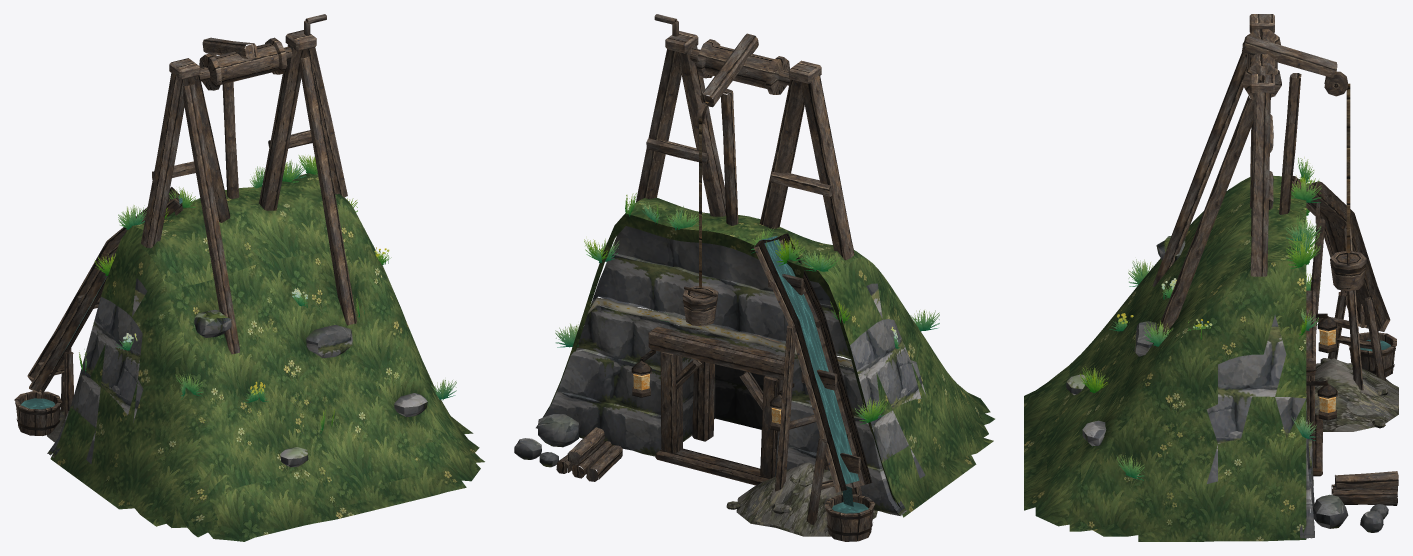
The model's file is gold_mine.glb.
3 renders of one model, left to right at view 1: azimuth 30°, elevation 25°; view 2: azimuth 150°, elevation 25°; view 3: azimuth 270°, elevation 25°, orthographic. The views are drawn at different scales.
Parts seen in each view (by area): view 1: gold_mine, windlass_drum; view 2: gold_mine, windlass_drum, windlass_bucket; view 3: gold_mine, windlass_bucket, windlass_drum.
Part boxes in pixels (bbox=[...]): gold_mine: bbox=[14, 30, 484, 541]; windlass_drum: bbox=[199, 14, 326, 90]; gold_mine: bbox=[514, 31, 994, 541]; windlass_drum: bbox=[654, 14, 790, 94]; windlass_bucket: bbox=[682, 118, 718, 326]; gold_mine: bbox=[1024, 14, 1398, 541]; windlass_bucket: bbox=[1330, 83, 1366, 291]; windlass_drum: bbox=[1242, 29, 1281, 97].
Size of the model in its own units: 5.93 by 6.52 by 5.27.
Materials: 6 (6 with a texture image).
